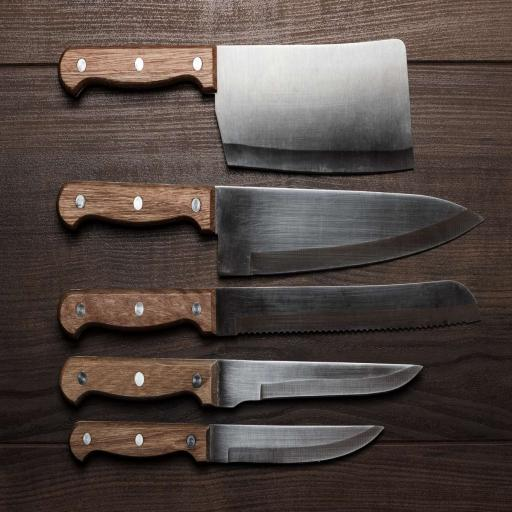knife: (56, 185, 478, 283)
